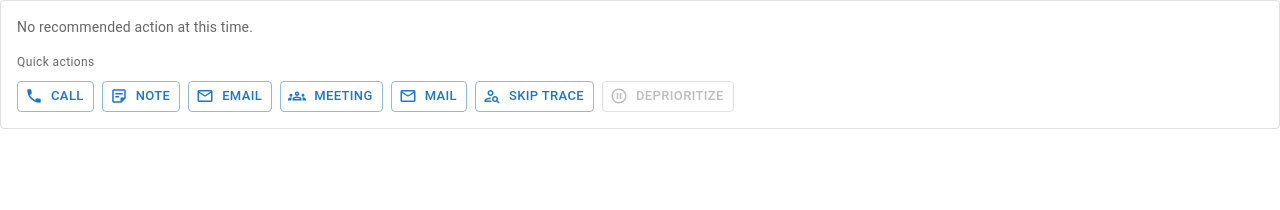
Test: RecommendedActionPanel › mailable universal Quick actions › shows inline error on null RA when Quick action fails
Click the button with test id "ra-universal-btn-add_to_mail_batch" at x=429, y=96, box [391,81,467,112]
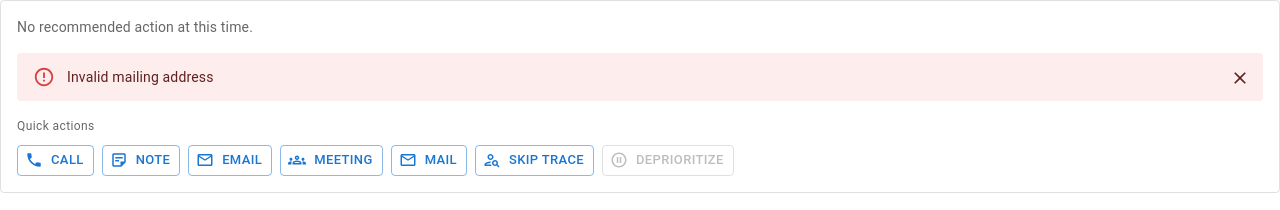
Result: the message with test id "ra-action-error" reads "Invalid mailing address" at [67,69,214,85]
